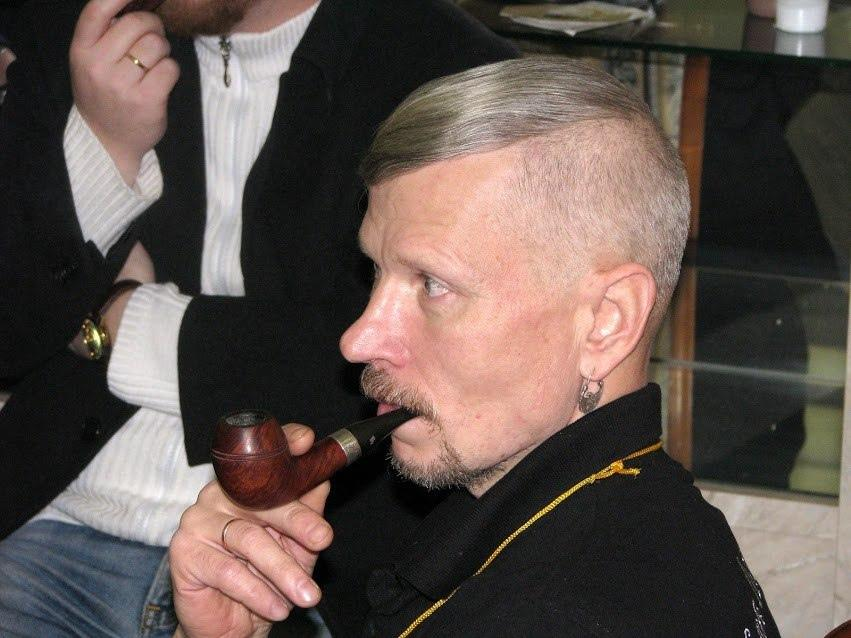trubka: (211, 409, 413, 509)
